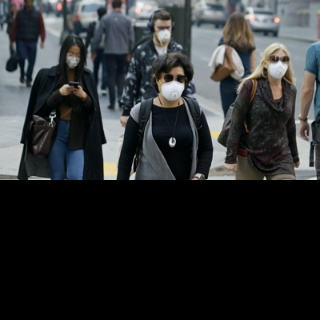with_mask: (160, 72, 187, 102), (155, 24, 172, 44), (65, 50, 82, 69)
